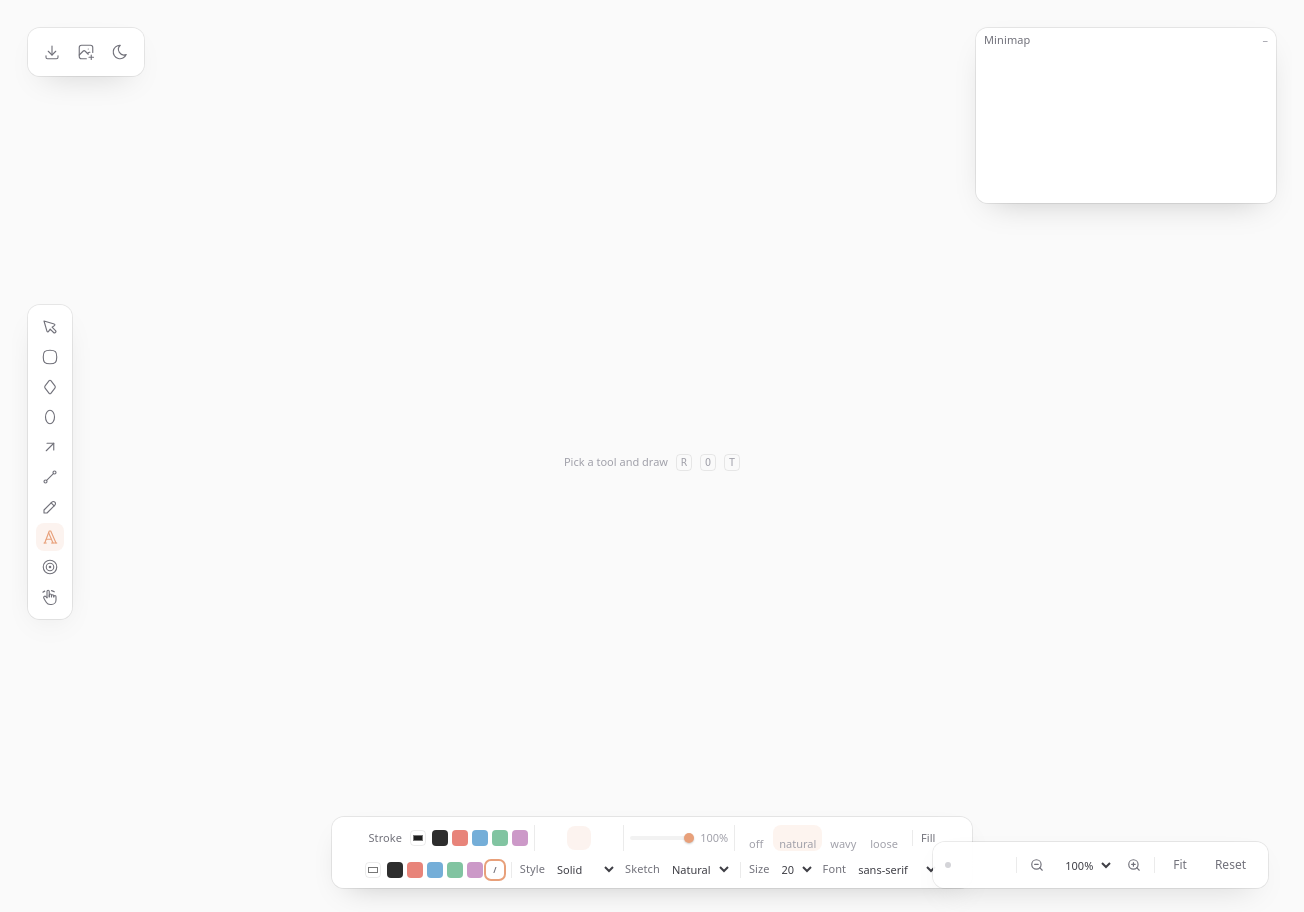
Test: text tool flow › clicking empty canvas opens a visible editor
The image size is (1304, 912).
Press the mouse on the drawing named "Drawing canvas. Press V for select, R for rectangle, T for t" at (652, 462), box x1=12 y1=12 x2=1292 y2=911
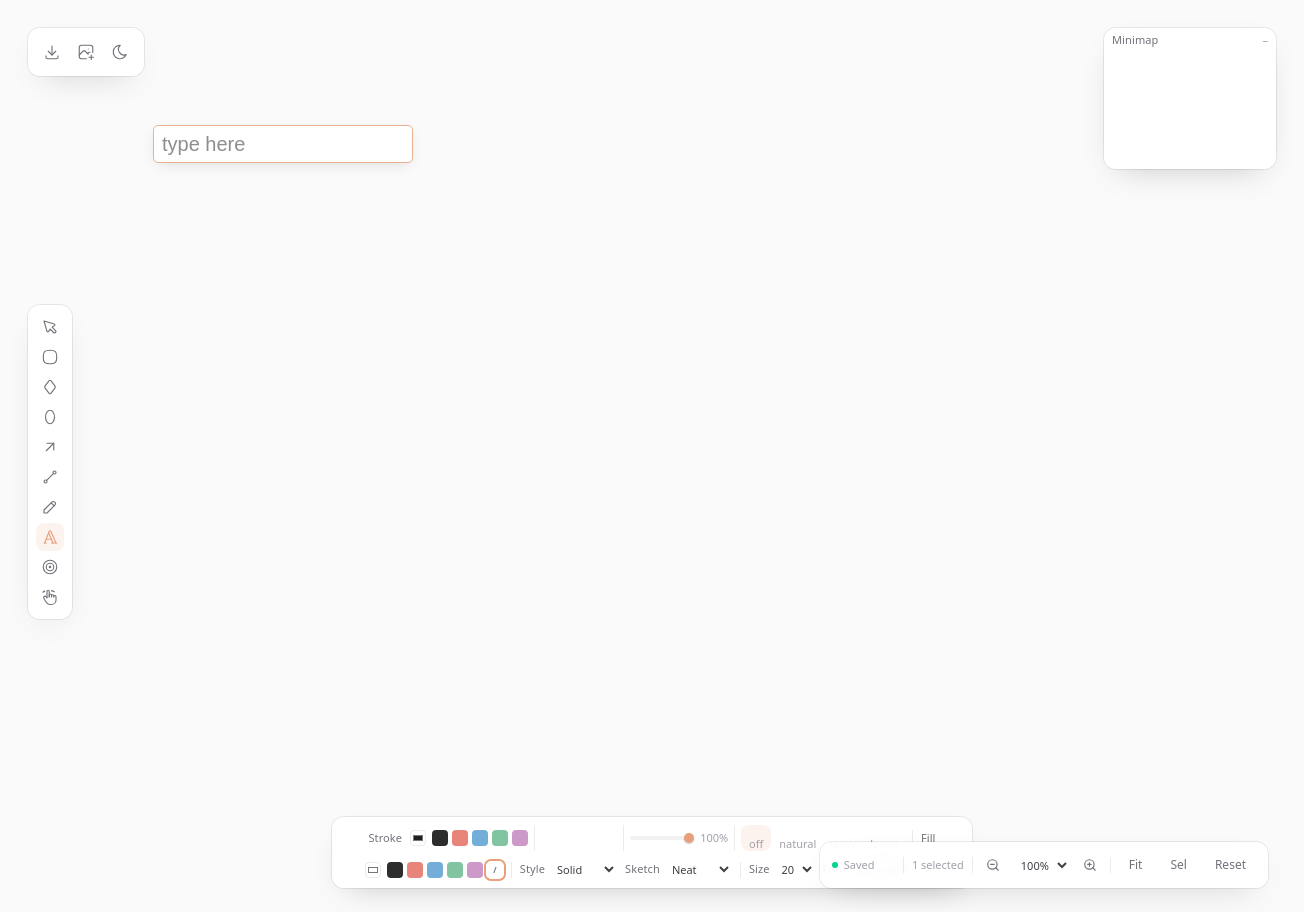
Expected: the text box is shown, x1=154 y1=126 x2=412 y2=162
